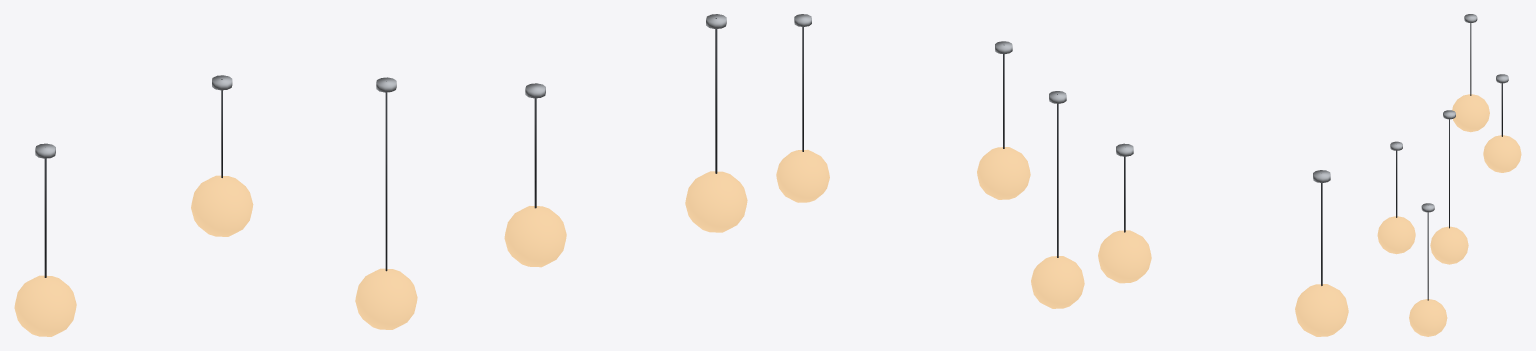
The model's file is Arch_Ceiling_HangingCables.gltf.
3 renders of one model, left to right at view 1: azimuth 30°, elevation 25°; view 2: azimuth 150°, elevation 25°; view 3: azimuth 270°, elevation 25°, orthographic. The views are drawn at different scales.
Visible parts, largest first — view 1: Arch_Ceiling_HangingCables; view 2: Arch_Ceiling_HangingCables; view 3: Arch_Ceiling_HangingCables.
Boxes of the visible parts, box(x1,y1,x2,y2) form: Arch_Ceiling_HangingCables: box(14, 14, 747, 336); Arch_Ceiling_HangingCables: box(776, 14, 1348, 336); Arch_Ceiling_HangingCables: box(1377, 14, 1521, 336).
Bounding box in the file's own units: 2.28 × 0.777 × 0.676.
